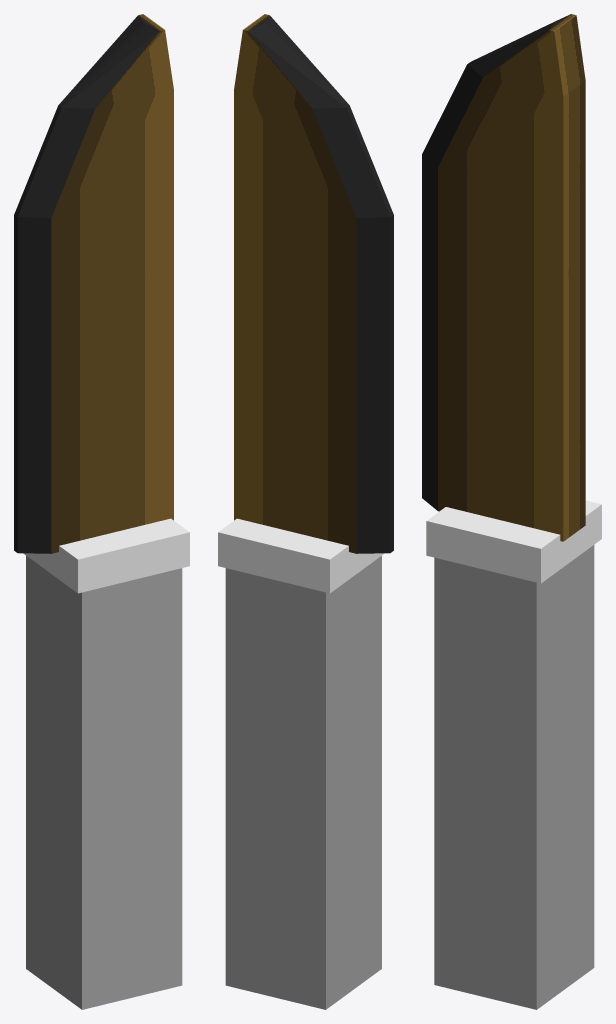
File: iron.obj
3 views of the same model, side by side, from view 1: azimuth 30°, elevation 25°; view 2: azimuth 150°, elevation 25°; view 3: azimuth 330°, elevation 25° (orthographic). The views are drawn at different scales.
Visible parts, largest first — view 1: blade, grip, bolster; view 2: blade, grip, bolster; view 3: blade, grip, bolster.
Part boxes in pixels (bbox=[...]): blade: bbox=[14, 14, 173, 553]; grip: bbox=[26, 556, 182, 1009]; bolster: bbox=[23, 518, 189, 593]; blade: bbox=[234, 14, 393, 553]; grip: bbox=[225, 556, 381, 1009]; bolster: bbox=[218, 518, 384, 593]; blade: bbox=[422, 14, 585, 541]; grip: bbox=[434, 545, 594, 1009]; bolster: bbox=[426, 500, 601, 583].
Size of the model in its own units: 0.1562 by 0.9563 by 0.1094.
